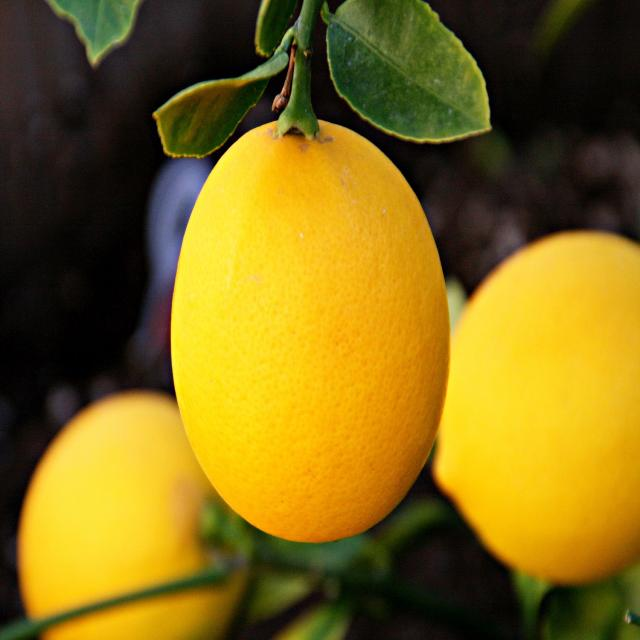lemon: (162, 121, 450, 549)
